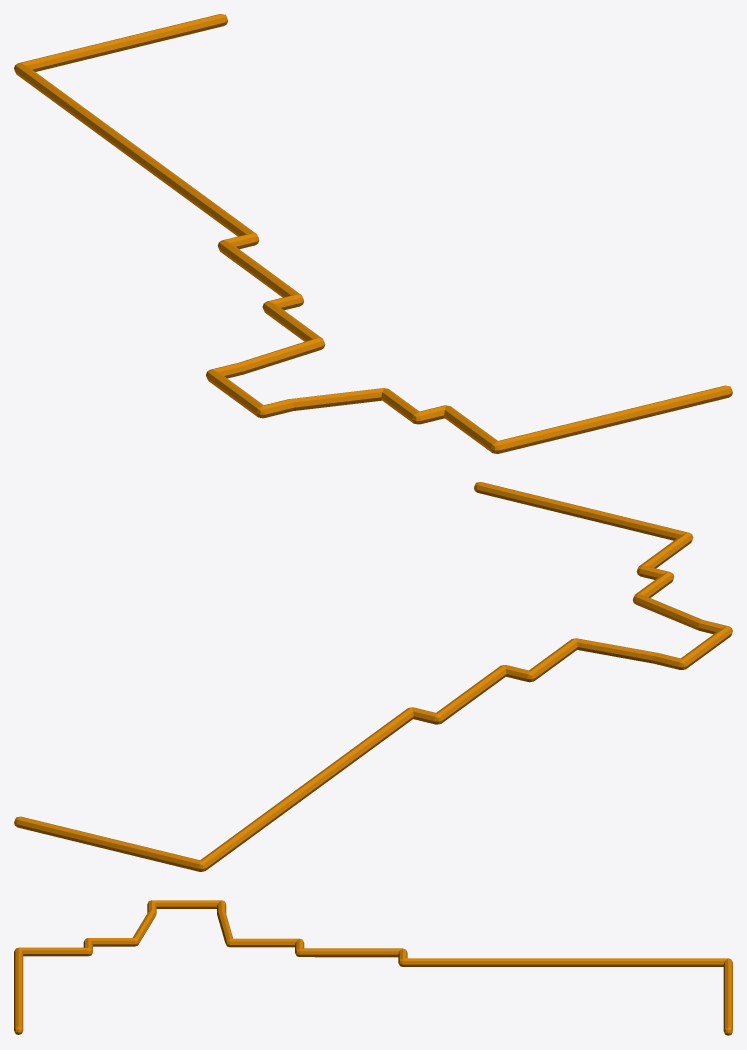
3 views of the same model, one above another, from view 1: azimuth 30°, elevation 25°; view 2: azimuth 150°, elevation 25°; view 3: azimuth 270°, elevation 25° (orthographic). The views are drawn at different scales.
Bounding box in the file's own units: 666 × 20 × 1546.
